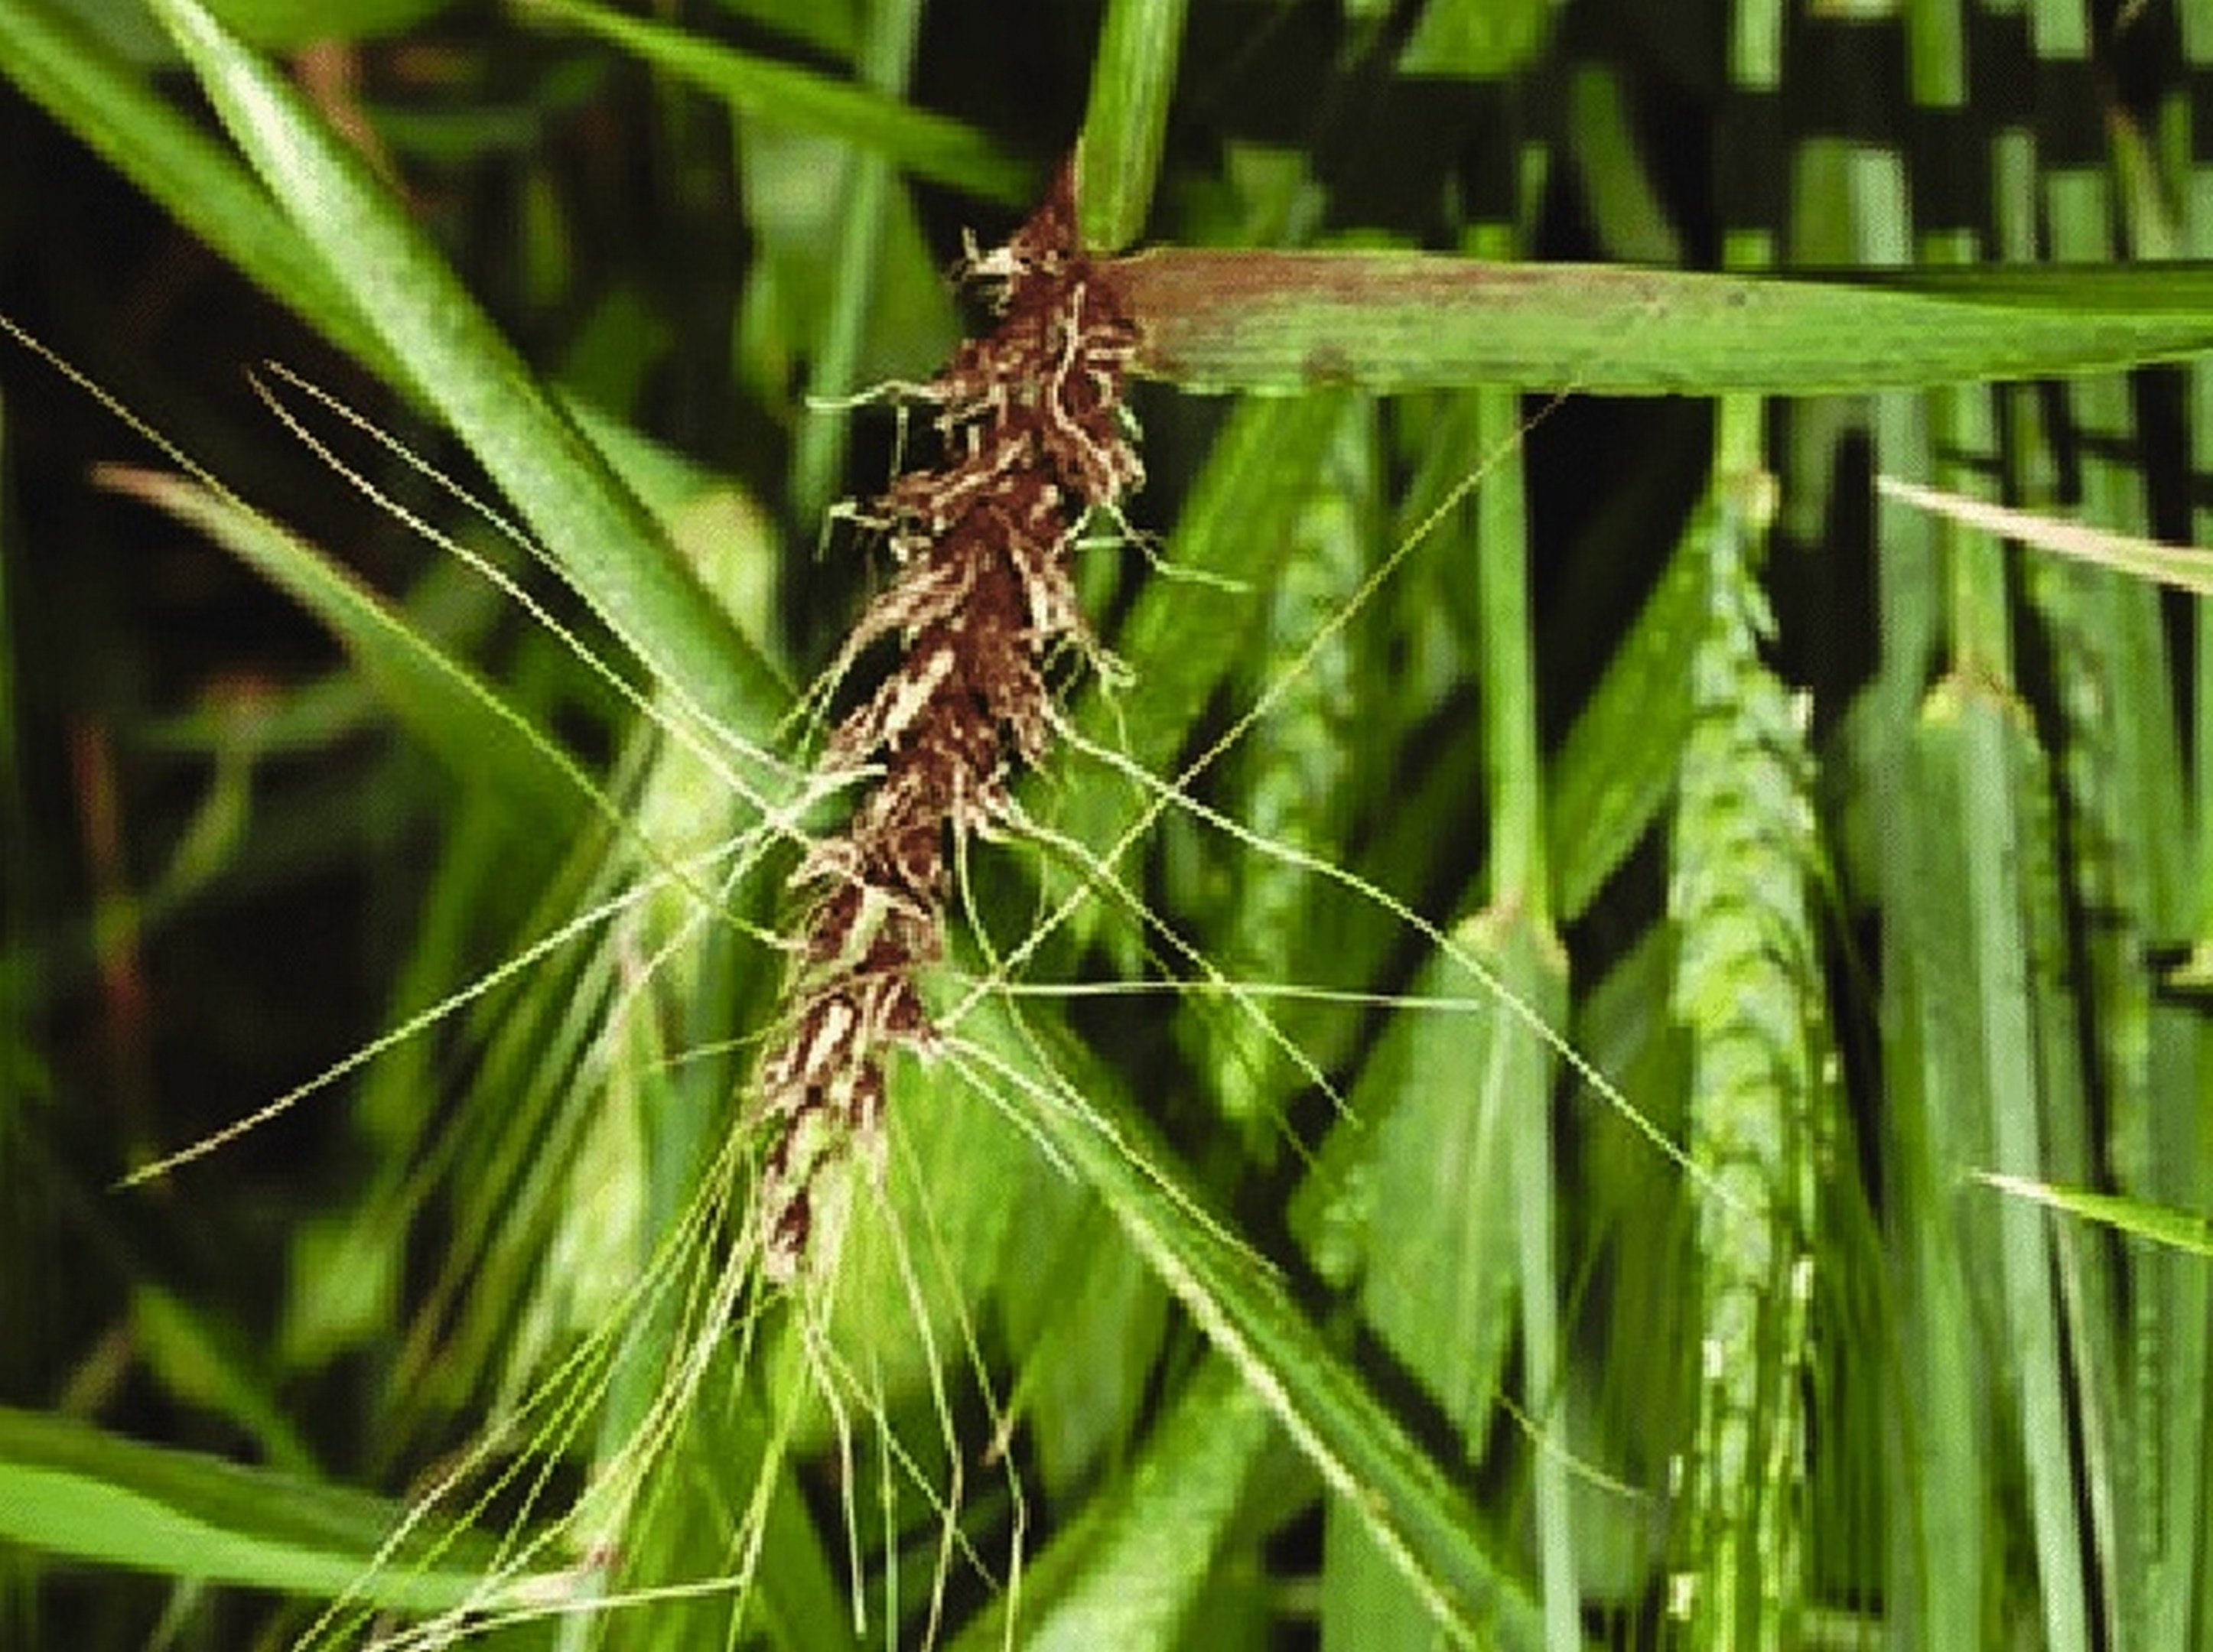Wheat Loose Smut: (618, 238, 1179, 1423)
